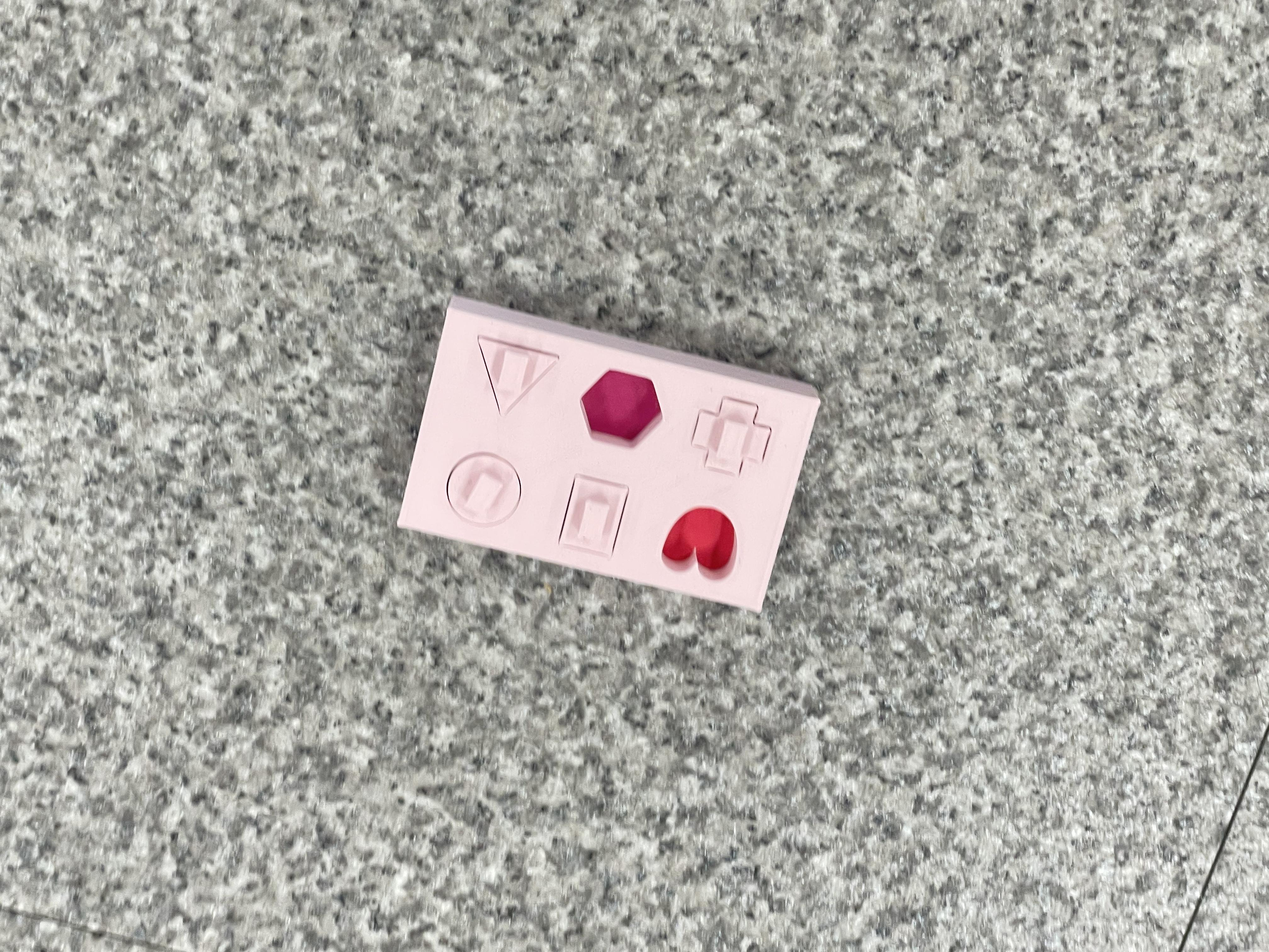unsolved: (389, 301, 824, 621)
